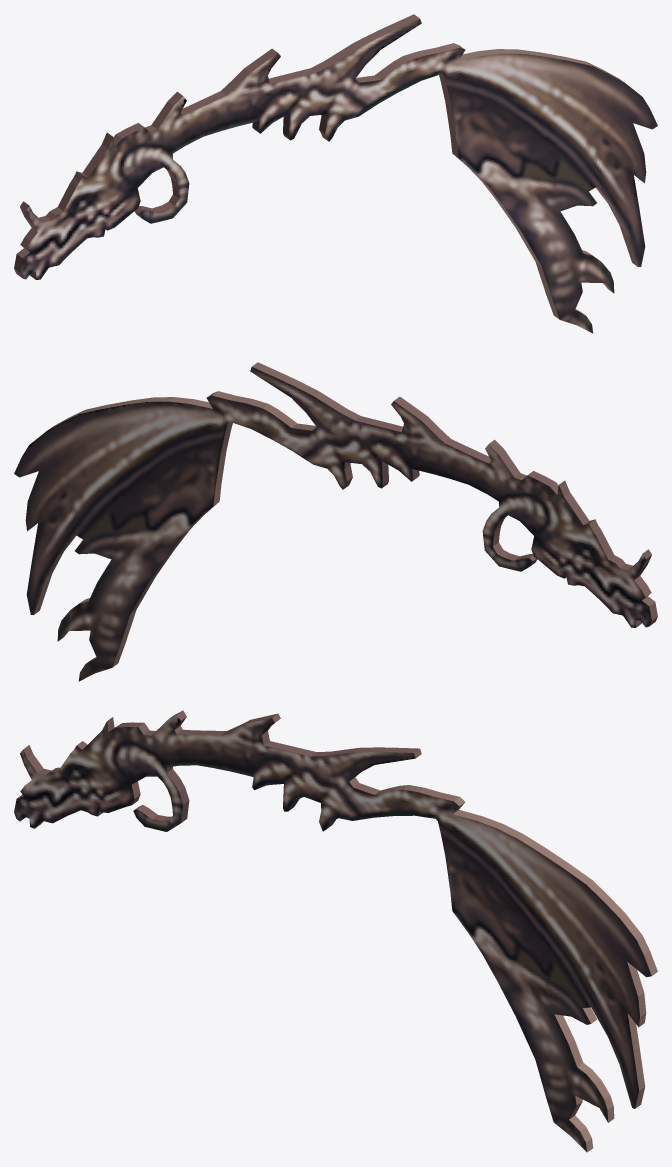
File: LegendaryIcon_Played.glb
3 views of the same model, one above another, from view 1: azimuth 30°, elevation 25°; view 2: azimuth 150°, elevation 25°; view 3: azimuth 330°, elevation 25° (orthographic).
Parts seen in each view (by area): view 1: Circle; view 2: Circle; view 3: Circle.
Part boxes in pixels (bbox=[...]): Circle: bbox=[14, 14, 657, 333]; Circle: bbox=[14, 362, 657, 681]; Circle: bbox=[14, 710, 657, 1152].
Size of the model in its own units: 5.83 by 3.12 by 0.0971.
Materials: 1 (1 with a texture image).
